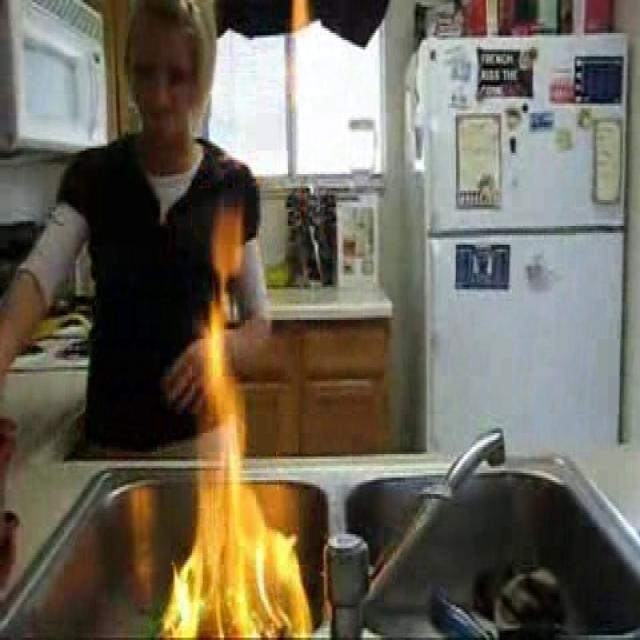Fire: (180, 217, 304, 638)
